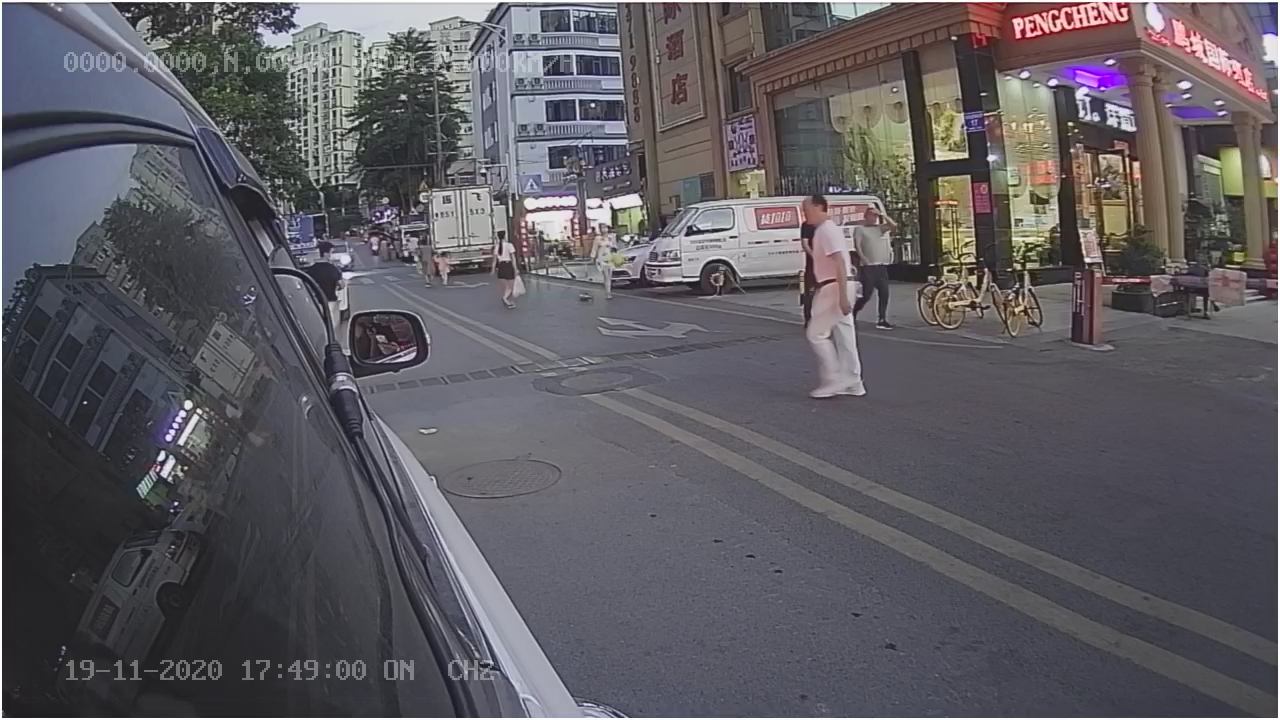person: (783, 190, 871, 405)
